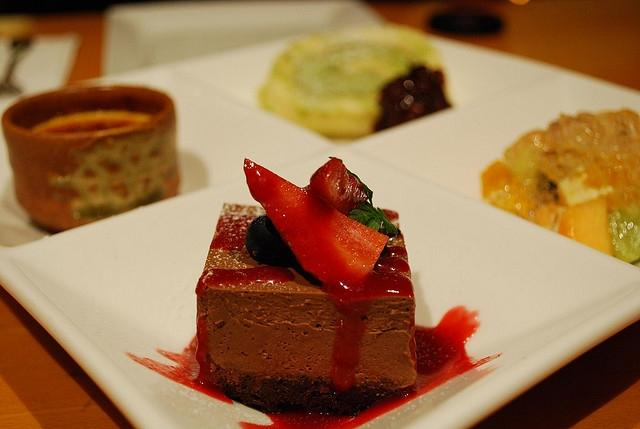strawberry: (244, 159, 388, 284), (309, 158, 367, 216)
